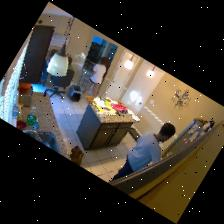person: (111, 124, 175, 181), (82, 57, 109, 97)
